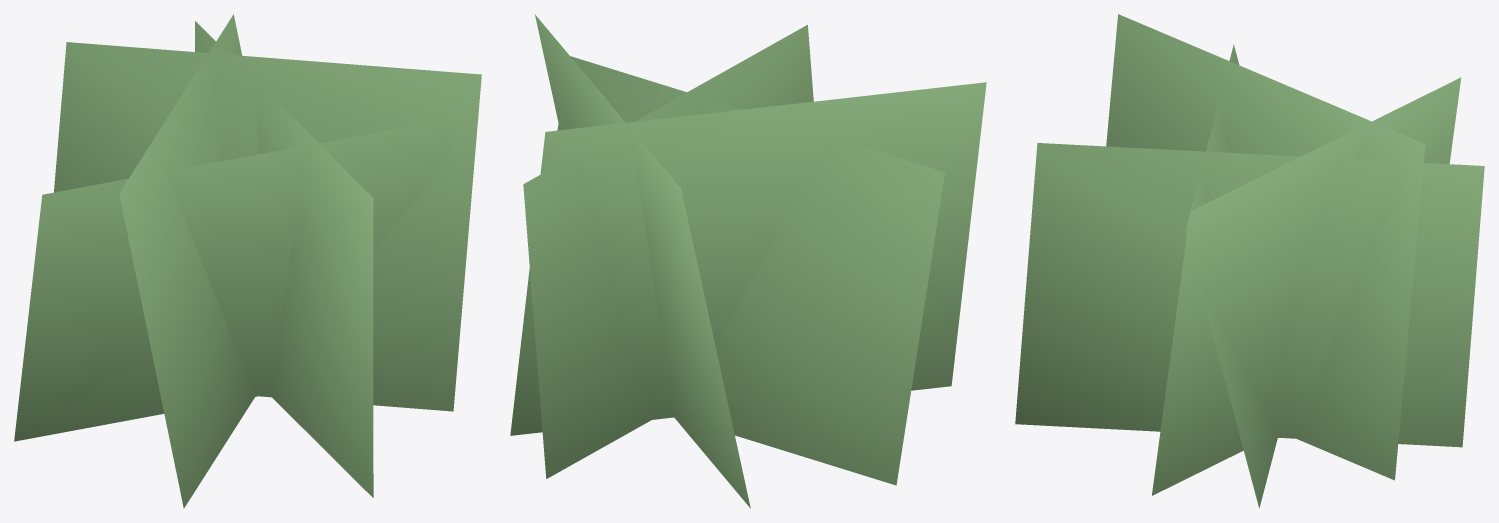
Rendered from bush_a.glb.
3 renders of one model, left to right at view 1: azimuth 30°, elevation 25°; view 2: azimuth 150°, elevation 25°; view 3: azimuth 270°, elevation 25°, orthographic. The views are drawn at different scales.
Parts seen in each view (by area): view 1: bush_a; view 2: bush_a; view 3: bush_a.
Part boxes in pixels (left/top/right/bottom): bush_a: left=14, top=14, right=481, bottom=508; bush_a: left=510, top=14, right=986, bottom=508; bush_a: left=1015, top=14, right=1484, bottom=508.
Bounding box in the file's own units: 2.14 × 1.55 × 2.11.
